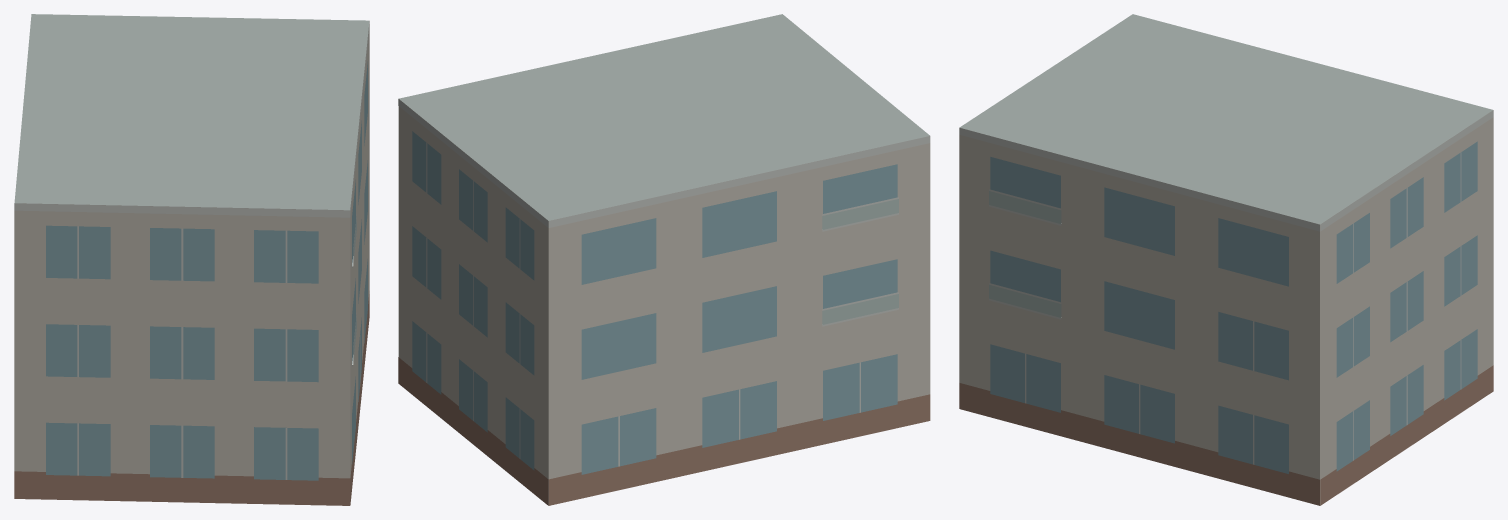
The model's file is survey-upis-32748026.glb.
The picture shows the model from 3 angles, left to right: view 1: azimuth 30°, elevation 25°; view 2: azimuth 150°, elevation 25°; view 3: azimuth 270°, elevation 25°; orthographic projection. The views are drawn at different scales.
Visible parts, largest first — view 1: survey-upis-32748026.tmp; view 2: survey-upis-32748026.tmp; view 3: survey-upis-32748026.tmp.
Boxes of the visible parts, x1=… form: survey-upis-32748026.tmp: x1=14, y1=14, x2=369, y2=505; survey-upis-32748026.tmp: x1=398, y1=14, x2=930, y2=505; survey-upis-32748026.tmp: x1=959, y1=14, x2=1493, y2=505.
Size of the model in its own units: 15.58 by 9.7 by 16.71.
